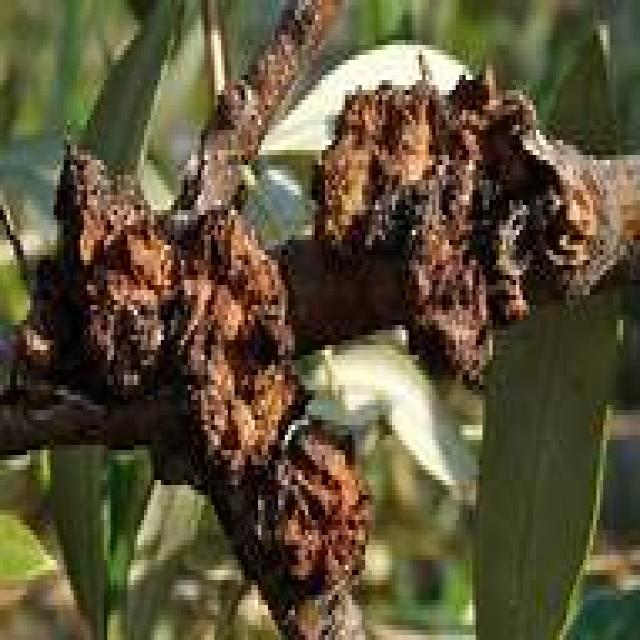Tuberculosis: (37, 145, 369, 635), (318, 50, 596, 385)
